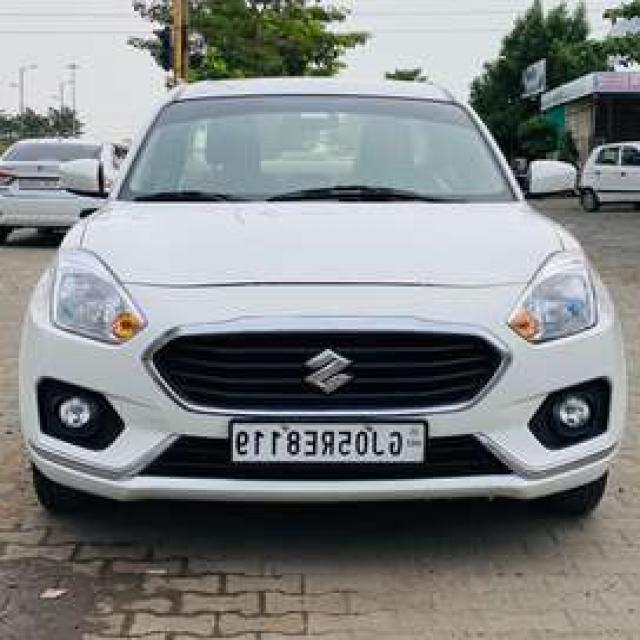license_plate: (225, 409, 431, 470)
